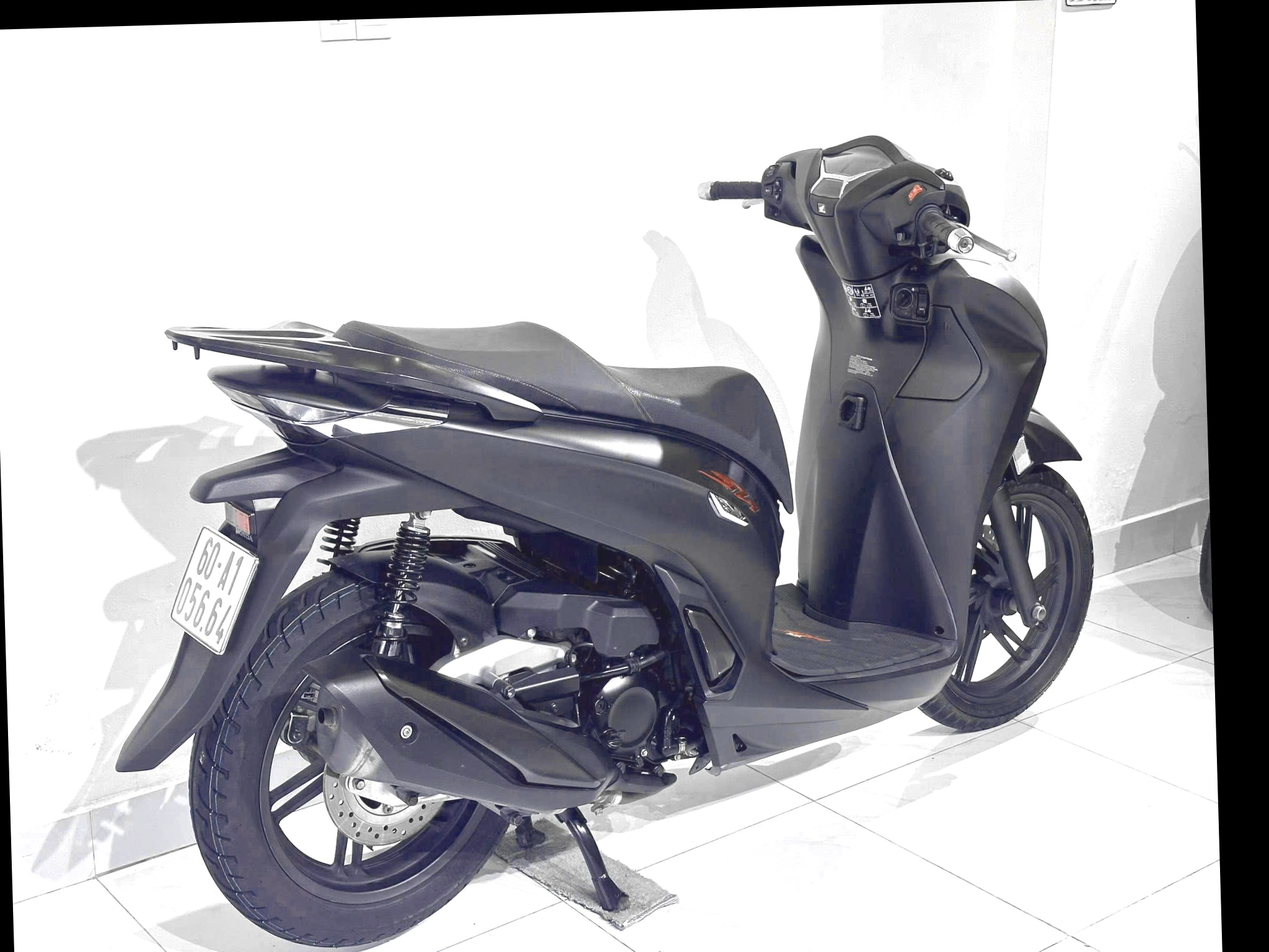Bien-so: (169, 526, 262, 663)
